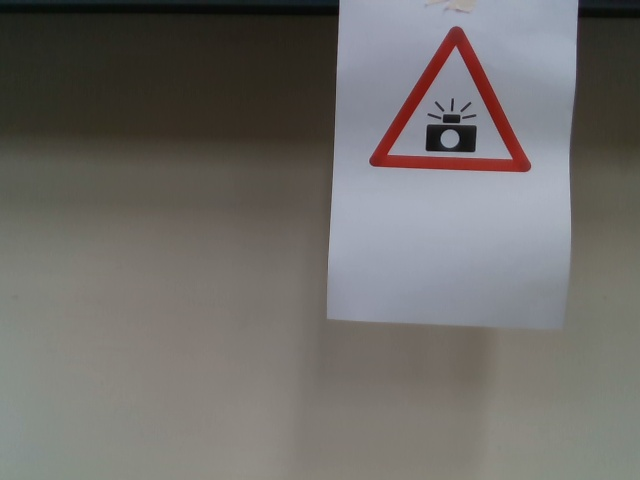camera: (366, 24, 536, 176)
